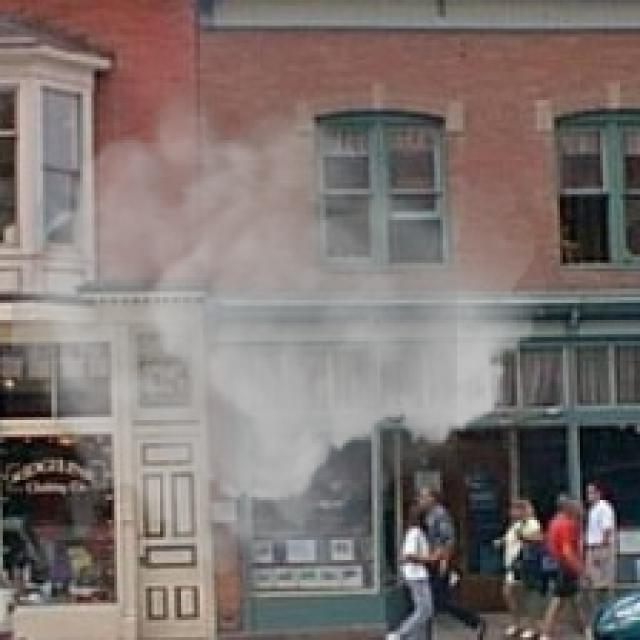Smoke: (11, 77, 546, 597)
